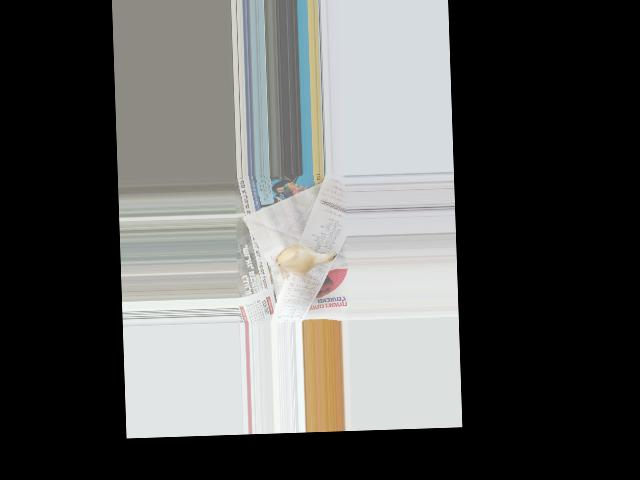onion: (277, 244, 322, 274)
